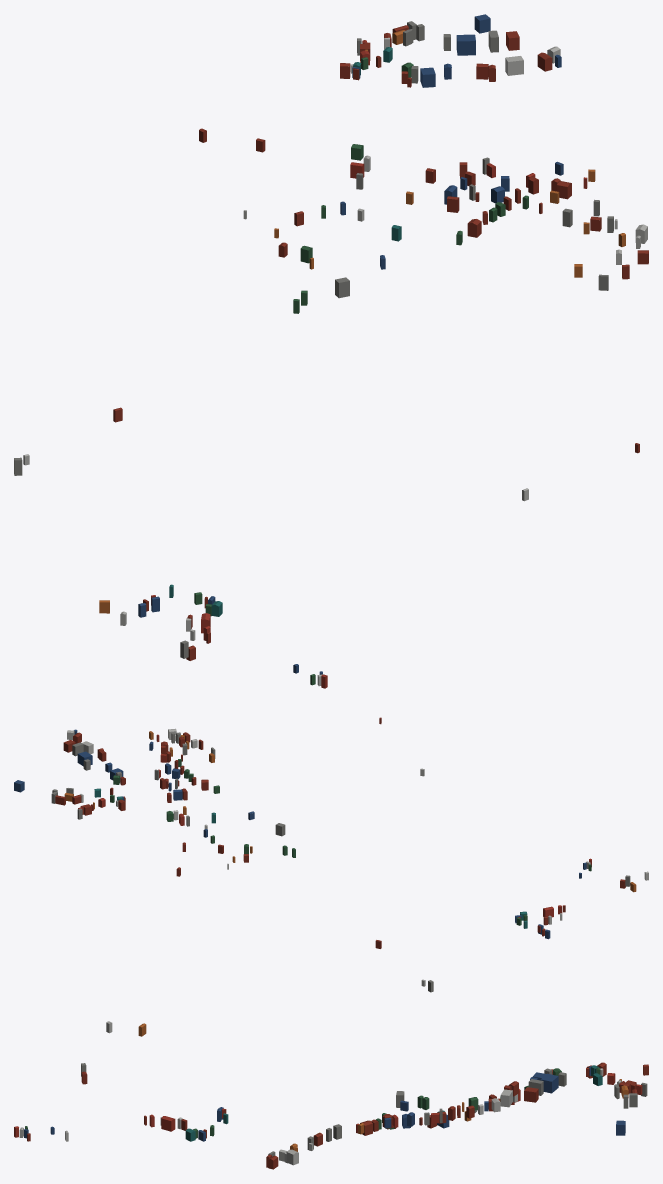
Rendered from near-15-27354-14868.66174e36.glb.
3 renders of one model, top to bottom at view 1: azimuth 30°, elevation 25°; view 2: azimuth 150°, elevation 25°; view 3: azimuth 270°, elevation 25°, orthographic. The views are drawn at different scales.
Bounding box in the file's own units: 1183 × 518 × 1163.
